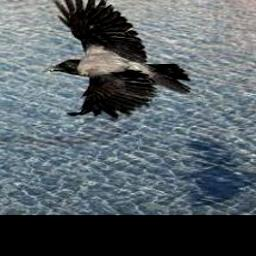Crow: (46, 0, 192, 117)
